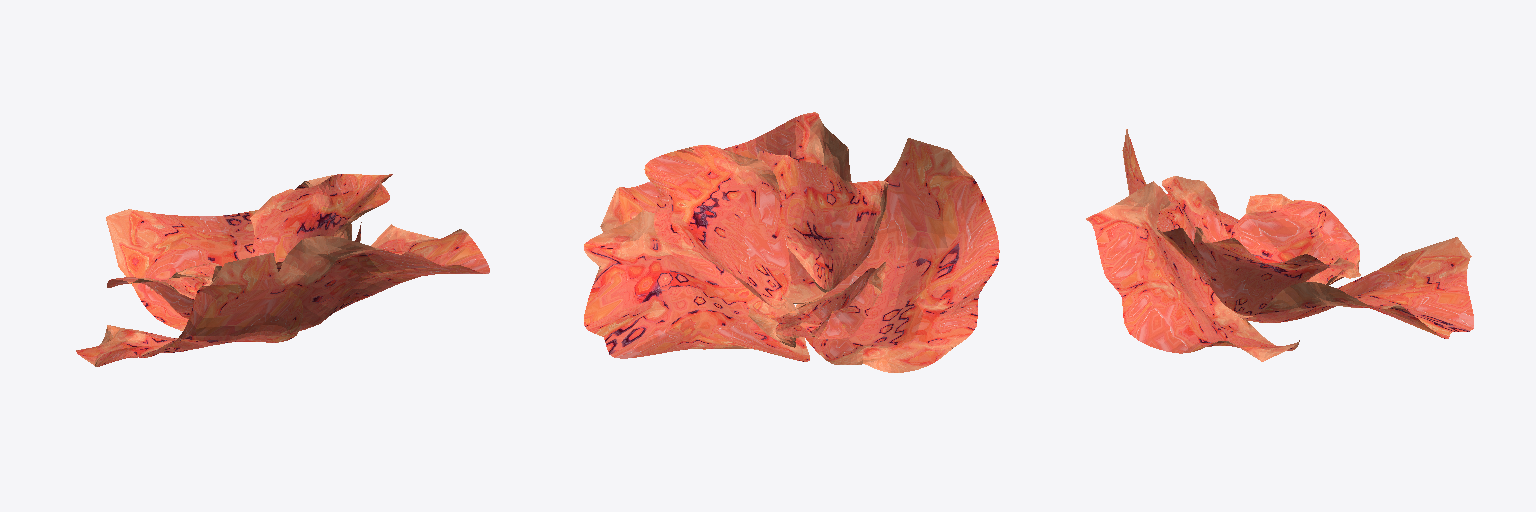
3 renders of one model, left to right at view 1: azimuth 30°, elevation 25°; view 2: azimuth 150°, elevation 25°; view 3: azimuth 270°, elevation 25°, orthographic.
Visible parts, largest first — view 1: mmGroup0; view 2: mmGroup0; view 3: mmGroup0.
Part boxes in pixels (x1,y1,x2,y2): mmGroup0: (76,174,489,366); mmGroup0: (584,112,999,372); mmGroup0: (1086,129,1473,361).
Bounding box in the file's own units: 50.01 × 19.95 × 46.4.
Materials: 1 (1 with a texture image).